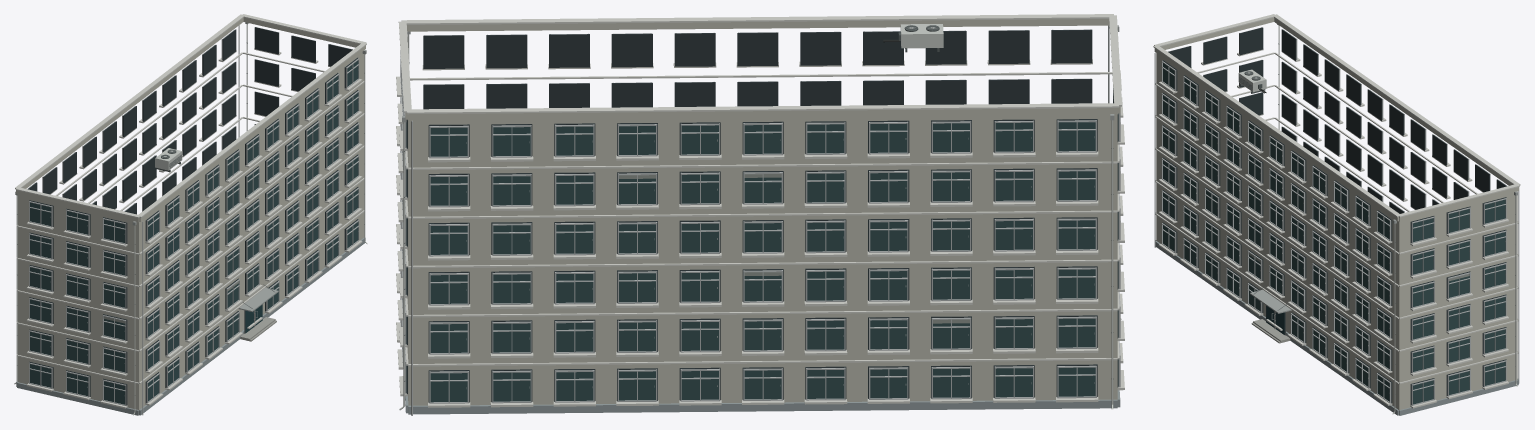
Rendered from osm_way_225265344.glb.
The picture shows the model from 3 angles, left to right: view 1: azimuth 30°, elevation 25°; view 2: azimuth 150°, elevation 25°; view 3: azimuth 270°, elevation 25°; orthographic projection. The views are drawn at different scales.
Parts seen in each view (by area): view 1: Windows and facade details | osm_way_225265344, Architecture | osm_way_225265344, Roof services | osm_way_225265344, EXTERIOR::osm_way_225265344::rainwater and roof service deta, EXTERIOR::osm_way_225265344::inferred entry doors canopy and; view 2: Windows and facade details | osm_way_225265344, Architecture | osm_way_225265344, Roof services | osm_way_225265344, EXTERIOR::osm_way_225265344::rainwater and roof service deta, EXTERIOR::osm_way_225265344::native pane seals and hardware; view 3: Windows and facade details | osm_way_225265344, Architecture | osm_way_225265344, Roof services | osm_way_225265344, EXTERIOR::osm_way_225265344::rainwater and roof service deta, EXTERIOR::osm_way_225265344::inferred entry doors canopy and.
Part boxes in pixels (left/top/right/bottom): Windows and facade details | osm_way_225265344: left=26, top=25, right=362, bottom=415; Architecture | osm_way_225265344: left=16, top=17, right=365, bottom=415; Roof services | osm_way_225265344: left=15, top=14, right=366, bottom=218; EXTERIOR::osm_way_225265344::rainwater and roof service deta: left=14, top=22, right=367, bottom=415; EXTERIOR::osm_way_225265344::inferred entry doors canopy and: left=238, top=284, right=278, bottom=341; Windows and facade details | osm_way_225265344: left=396, top=25, right=1124, bottom=415; Architecture | osm_way_225265344: left=405, top=19, right=1120, bottom=414; Roof services | osm_way_225265344: left=398, top=14, right=1121, bottom=114; EXTERIOR::osm_way_225265344::rainwater and roof service deta: left=399, top=24, right=1121, bottom=410; EXTERIOR::osm_way_225265344::native pane seals and hardware: left=466, top=136, right=1094, bottom=388; Windows and facade details | osm_way_225265344: left=1154, top=27, right=1519, bottom=408; Architecture | osm_way_225265344: left=1154, top=17, right=1519, bottom=415; Roof services | osm_way_225265344: left=1153, top=14, right=1520, bottom=217; EXTERIOR::osm_way_225265344::rainwater and roof service deta: left=1238, top=24, right=1517, bottom=414; EXTERIOR::osm_way_225265344::inferred entry doors canopy and: left=1250, top=286, right=1291, bottom=343.
Size of the model in its own units: 42.85 by 20.58 by 32.82.
